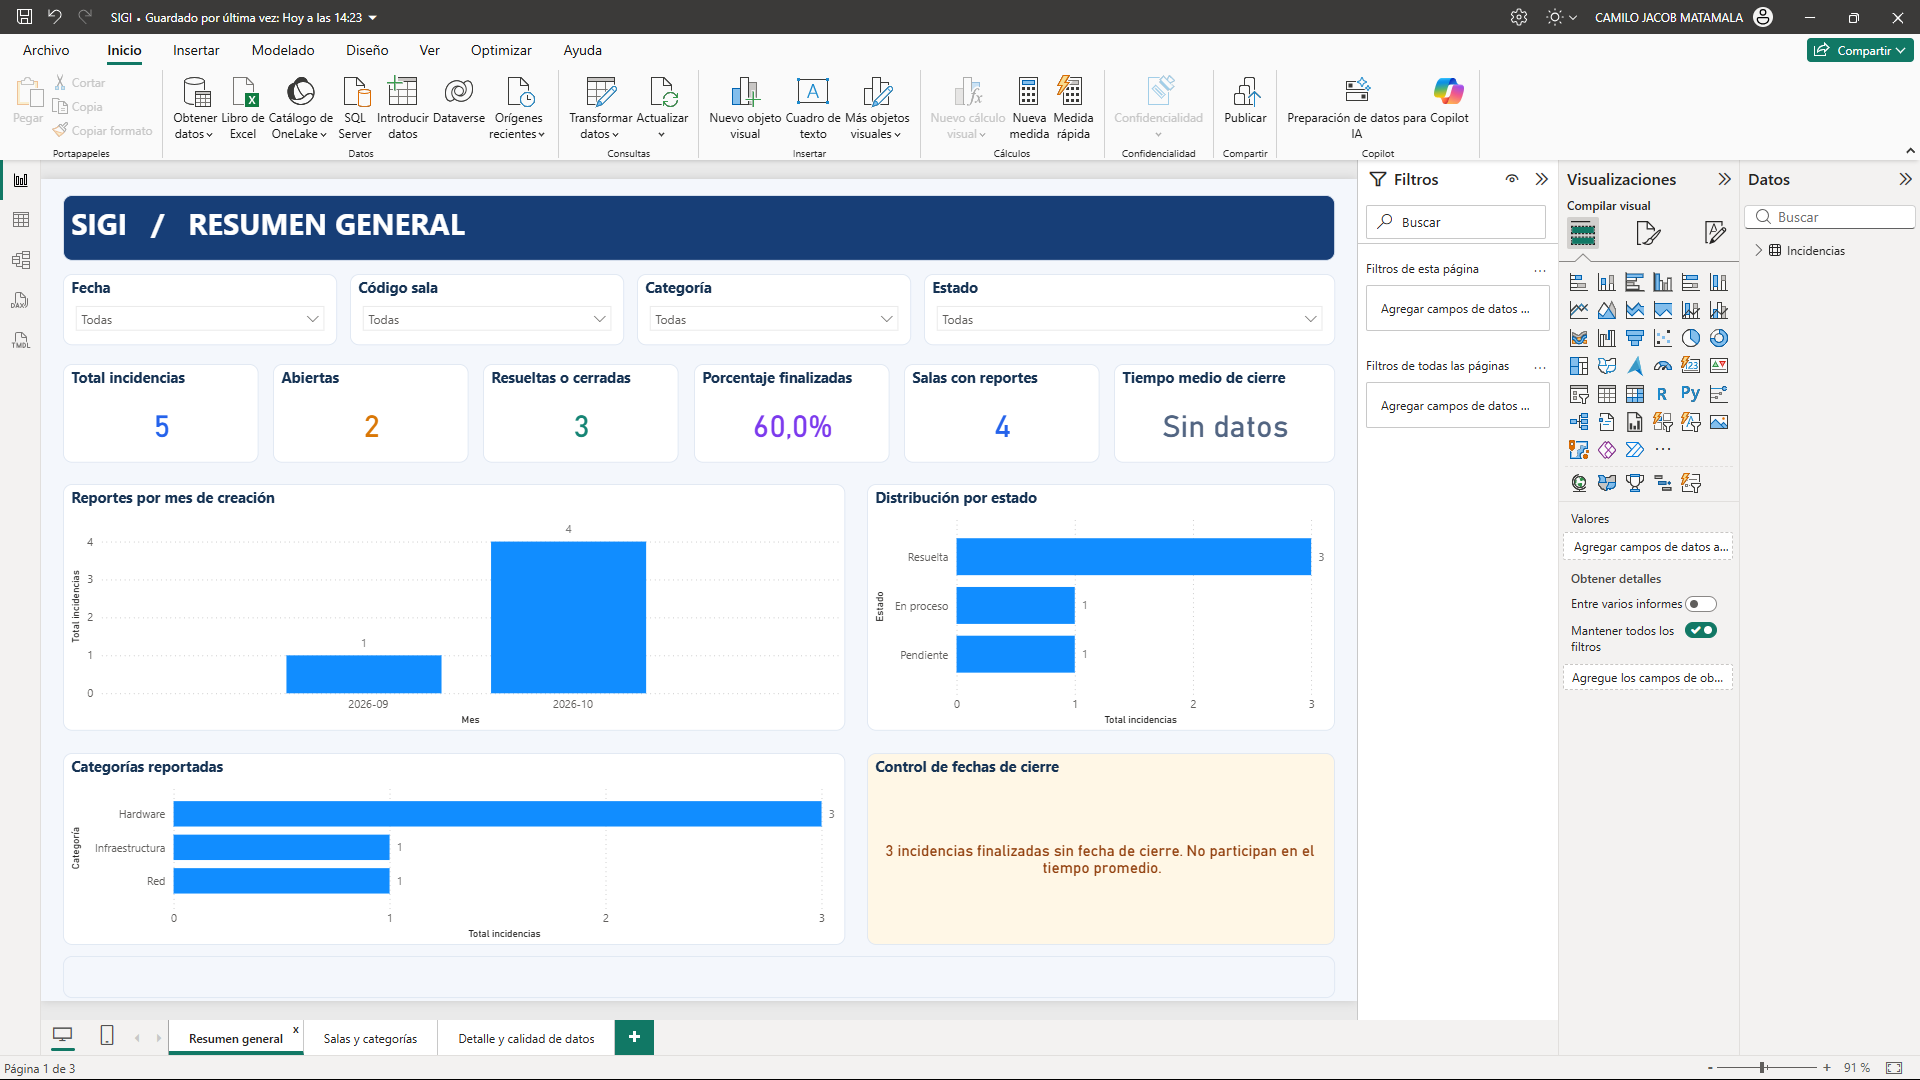

The dashboard page shown, as its layout file describes it:
{"tool":"powerbi","page":{"name":"Resumen general","canvas":[1440,900],"ordinal":0},"visuals":[{"type":"textbox","box":[24,18,1392,72],"z":1},{"type":"slicer","title":"Fecha","fields":{"Values":["Incidencias.Fecha"]},"box":[24,104,300,78],"z":2},{"type":"slicer","title":"Código sala","fields":{"Values":["Incidencias.Código sala"]},"box":[338,104,300,78],"z":3},{"type":"slicer","title":"Categoría","fields":{"Values":["Incidencias.Categoría"]},"box":[652,104,300,78],"z":4},{"type":"slicer","title":"Estado","fields":{"Values":["Incidencias.Estado"]},"box":[966,104,450,78],"z":5},{"type":"textbox","box":[24,850,1392,46],"z":6},{"type":"card","title":"Total incidencias","fields":{"Values":["Incidencias.Total incidencias"]},"box":[24,202,214,108],"z":19},{"type":"card","title":"Abiertas","fields":{"Values":["Incidencias.Abiertas"]},"box":[254,202,214,108],"z":20},{"type":"card","title":"Resueltas o cerradas","fields":{"Values":["Incidencias.Finalizadas"]},"box":[484,202,214,108],"z":21},{"type":"card","title":"Porcentaje finalizadas","fields":{"Values":["Incidencias.Porcentaje finalizadas"]},"box":[714,202,214,108],"z":22},{"type":"card","title":"Salas con reportes","fields":{"Values":["Incidencias.Salas reportadas"]},"box":[944,202,214,108],"z":23},{"type":"card","title":"Tiempo medio de cierre","fields":{"Values":["Incidencias.Tiempo medio visible"]},"box":[1174,202,242,108],"z":24},{"type":"clusteredColumnChart","title":"Reportes por mes de creación","fields":{"Category":["Incidencias.Mes"],"Y":["Incidencias.Total incidencias"]},"box":[24,334,856,270],"z":25},{"type":"clusteredBarChart","title":"Distribución por estado","fields":{"Category":["Incidencias.Estado"],"Y":["Incidencias.Total incidencias"]},"box":[904,334,512,270],"z":26},{"type":"clusteredBarChart","title":"Categorías reportadas","fields":{"Category":["Incidencias.Categoría"],"Y":["Incidencias.Total incidencias"]},"box":[24,628,856,210],"z":27},{"type":"card","title":"Control de fechas de cierre","fields":{"Values":["Incidencias.Aviso de datos"]},"box":[904,628,512,210],"z":28}]}

Visuals, with their boxes on the page's 1440x900 design canvas (x1, y1, x2, y2). These are canvas units, not pixel positions in the 1920x1080 screenshot, which may show the page scaled, cropped or inside an application window:
textbox: select_region(24, 18, 1416, 90)
"Fecha" slicer: select_region(24, 104, 324, 182)
"Código sala" slicer: select_region(338, 104, 638, 182)
"Categoría" slicer: select_region(652, 104, 952, 182)
"Estado" slicer: select_region(966, 104, 1416, 182)
textbox: select_region(24, 850, 1416, 896)
"Total incidencias" card: select_region(24, 202, 238, 310)
"Abiertas" card: select_region(254, 202, 468, 310)
"Resueltas o cerradas" card: select_region(484, 202, 698, 310)
"Porcentaje finalizadas" card: select_region(714, 202, 928, 310)
"Salas con reportes" card: select_region(944, 202, 1158, 310)
"Tiempo medio de cierre" card: select_region(1174, 202, 1416, 310)
"Reportes por mes de creación" clusteredColumnChart: select_region(24, 334, 880, 604)
"Distribución por estado" clusteredBarChart: select_region(904, 334, 1416, 604)
"Categorías reportadas" clusteredBarChart: select_region(24, 628, 880, 838)
"Control de fechas de cierre" card: select_region(904, 628, 1416, 838)
